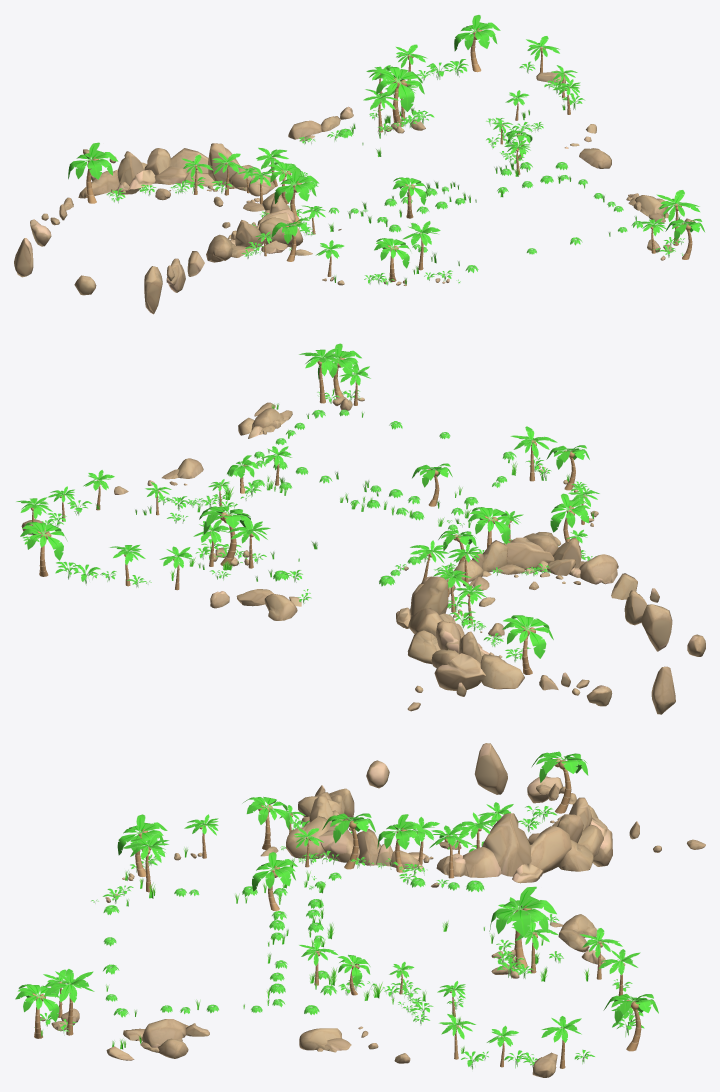
File: pilmi-foliage-rocks.glb
3 renders of one model, top to bottom at view 1: azimuth 30°, elevation 25°; view 2: azimuth 150°, elevation 25°; view 3: azimuth 270°, elevation 25°, orthographic. The views are drawn at different scales.
Parts seen in each view (by area): view 1: rocks-packed, palm-tree-1-09, palm-tree-1-01, palm-tree-1-08, palm-tree-1-02, palm-tree-1-06, palm-tree-1-03, palm-tree-2-06, palm-tree-1-05, palm-tree-1-07, palm-tree-2-05, palm-tree-1-10; view 2: rocks-packed, palm-tree-1-01, palm-tree-1-08, palm-tree-1-09, palm-tree-1-05, palm-tree-1-02, palm-tree-2-06, palm-tree-1-07, palm-tree-1-06, palm-tree-2-05, palm-tree-1-03; view 3: rocks-packed, palm-tree-1-09, palm-tree-1-01, palm-tree-1-03, palm-tree-1-08, palm-tree-1-10, palm-tree-1-02, palm-tree-1-06, palm-tree-1-07, palm-tree-2-06, palm-tree-1-05, palm-tree-2-05 (+7 smaller).
Part boxes in pixels (left/top/right/bottom): rocks-packed: left=14, top=70, right=694, bottom=314; palm-tree-1-09: left=373, top=66, right=424, bottom=126; palm-tree-1-01: left=68, top=142, right=118, bottom=203; palm-tree-1-08: left=454, top=15, right=500, bottom=72; palm-tree-1-02: left=274, top=168, right=319, bottom=223; palm-tree-1-06: left=374, top=238, right=410, bottom=281; palm-tree-1-03: left=392, top=177, right=427, bottom=218; palm-tree-2-06: left=656, top=189, right=700, bottom=245; palm-tree-1-05: left=272, top=218, right=309, bottom=261; palm-tree-1-07: left=665, top=218, right=705, bottom=259; palm-tree-2-05: left=402, top=221, right=440, bottom=270; palm-tree-1-10: left=267, top=162, right=302, bottom=204; rocks-packed: left=21, top=396, right=705, bottom=714; palm-tree-1-01: left=502, top=615, right=553, bottom=674; palm-tree-1-08: left=20, top=522, right=67, bottom=576; palm-tree-1-09: left=199, top=506, right=250, bottom=565; palm-tree-1-05: left=550, top=493, right=590, bottom=541; palm-tree-1-02: left=468, top=507, right=512, bottom=547; palm-tree-2-06: left=299, top=348, right=345, bottom=403; palm-tree-1-07: left=318, top=343, right=361, bottom=397; palm-tree-1-06: left=546, top=445, right=589, bottom=490; palm-tree-2-05: left=510, top=426, right=557, bottom=481; palm-tree-1-03: left=412, top=463, right=452, bottom=506; rocks-packed: left=40, top=743, right=705, bottom=1077; palm-tree-1-09: left=489, top=886, right=556, bottom=968; palm-tree-1-01: left=531, top=751, right=588, bottom=813; palm-tree-1-03: left=252, top=851, right=297, bottom=910; palm-tree-1-08: left=603, top=993, right=658, bottom=1051; palm-tree-1-10: left=377, top=814, right=425, bottom=872; palm-tree-1-02: left=322, top=813, right=375, bottom=869; palm-tree-1-06: left=117, top=814, right=167, bottom=876; palm-tree-1-07: left=15, top=984, right=59, bottom=1038; palm-tree-2-06: left=43, top=969, right=94, bottom=1035; palm-tree-1-05: left=242, top=796, right=289, bottom=849; palm-tree-2-05: left=122, top=833, right=169, bottom=892.
Bounding box in the file's own units: 59.01 × 10.96 × 49.89.
Materials: 3 (3 with a texture image).
